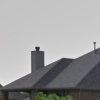Chimney: (26, 40, 46, 71)
